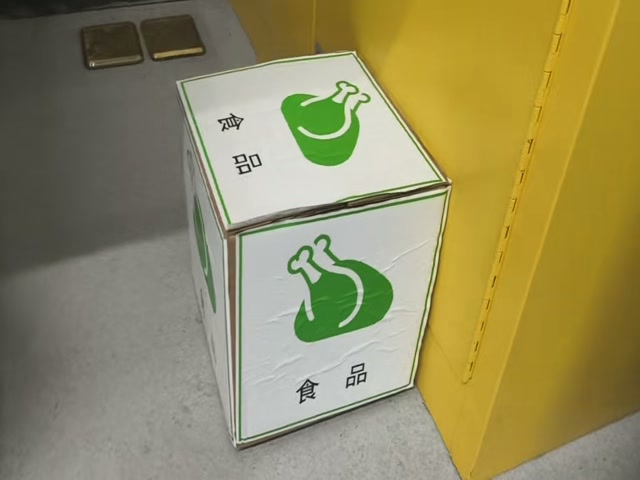Cube_food: (179, 51, 448, 228)
